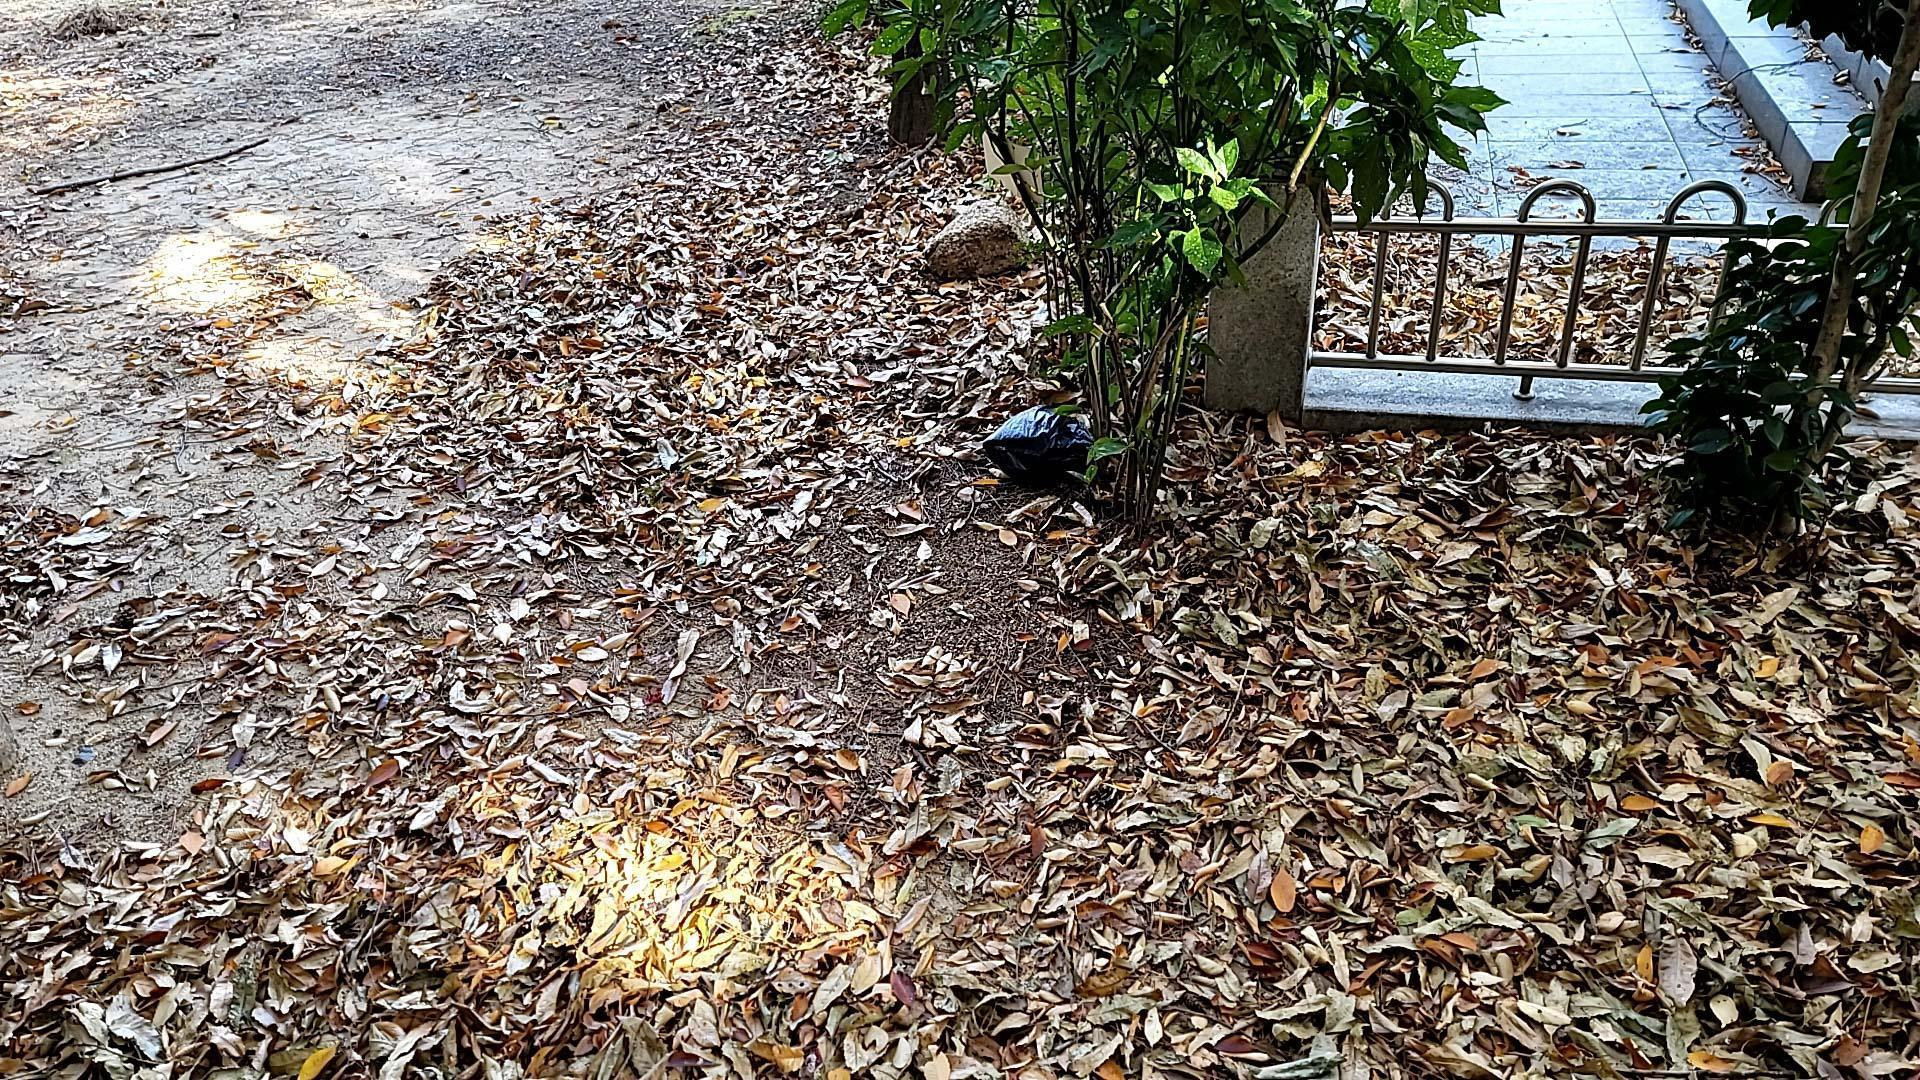black_bag: (967, 381, 1135, 495)
